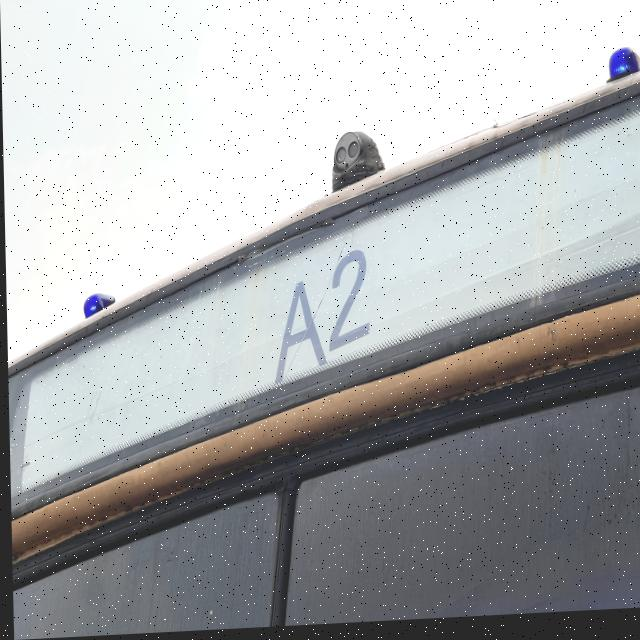BMTA-bus: (1, 44, 640, 640)
Bus-Line-Number: (255, 235, 387, 389)
